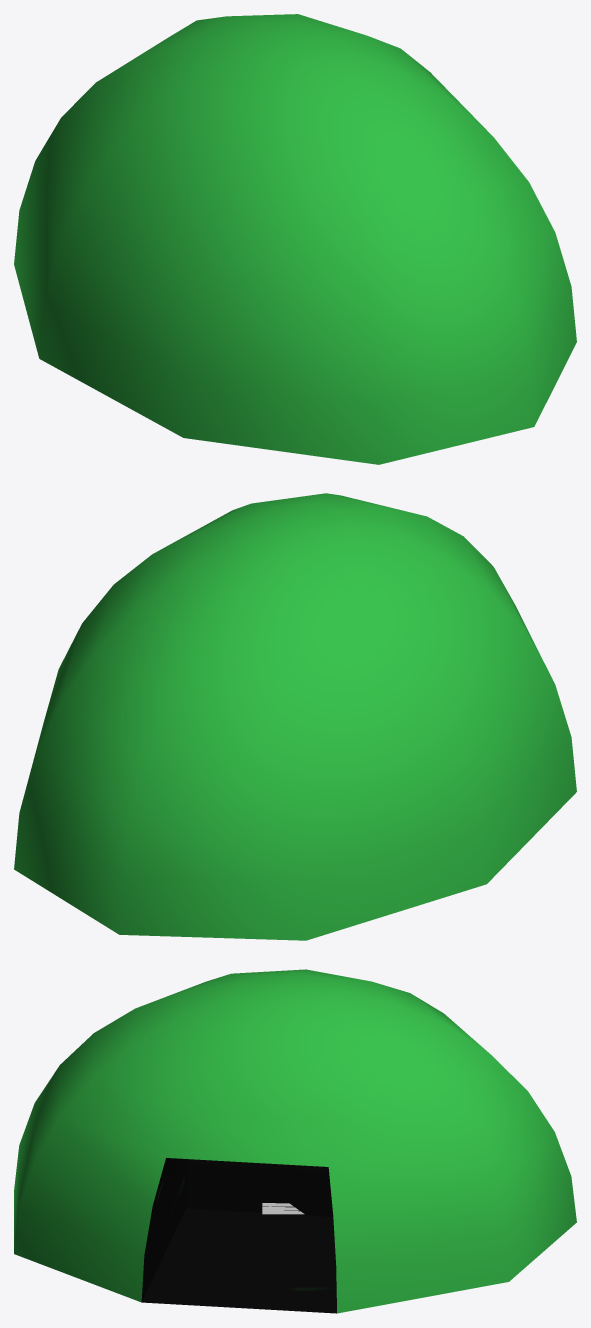
File: Bench.fbx
The picture shows the model from 3 angles, top to bottom: view 1: azimuth 30°, elevation 25°; view 2: azimuth 150°, elevation 25°; view 3: azimuth 270°, elevation 25°; orthographic projection. The views are drawn at different scales.
Parts seen in each view (by area): view 1: Sphere; view 2: Sphere; view 3: Sphere.
Boxes of the visible parts, left/top/right/bottom form: Sphere: left=14, top=14, right=576, bottom=464; Sphere: left=14, top=493, right=576, bottom=940; Sphere: left=14, top=969, right=576, bottom=1313.
Bounding box in the file's own units: 1764 × 1102 × 2303.
